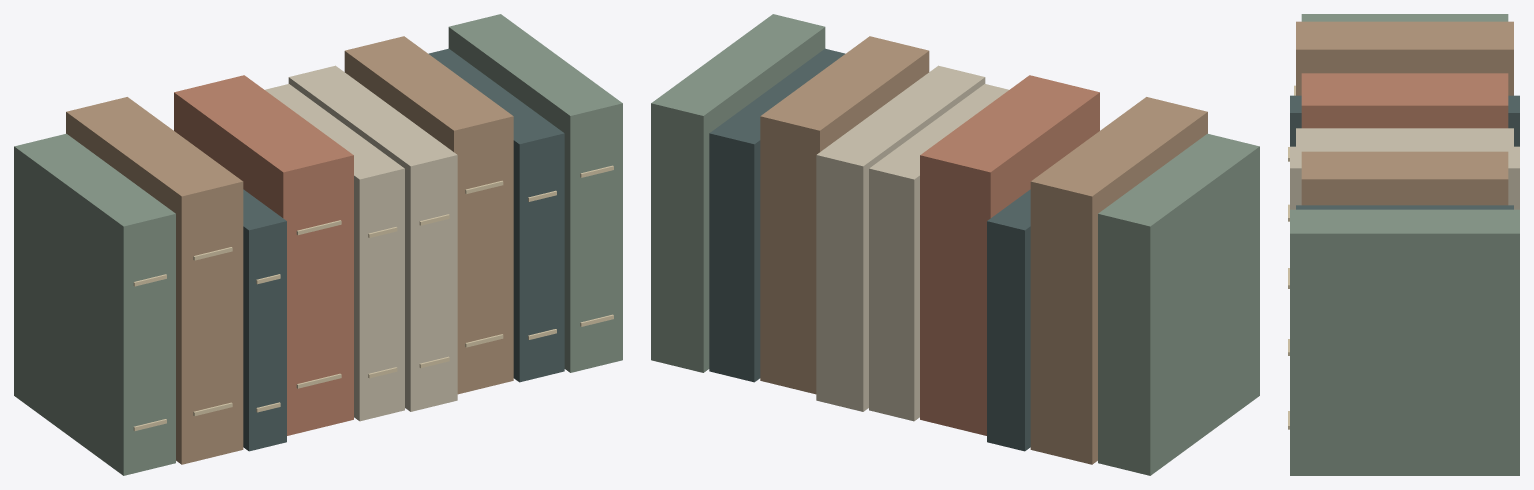
Rendered from studio-cloth-books.glb.
The picture shows the model from 3 angles, left to right: view 1: azimuth 30°, elevation 25°; view 2: azimuth 150°, elevation 25°; view 3: azimuth 270°, elevation 25°; orthographic projection. The views are drawn at different scales.
Size of the model in its own units: 0.273 by 0.142 by 0.118.
